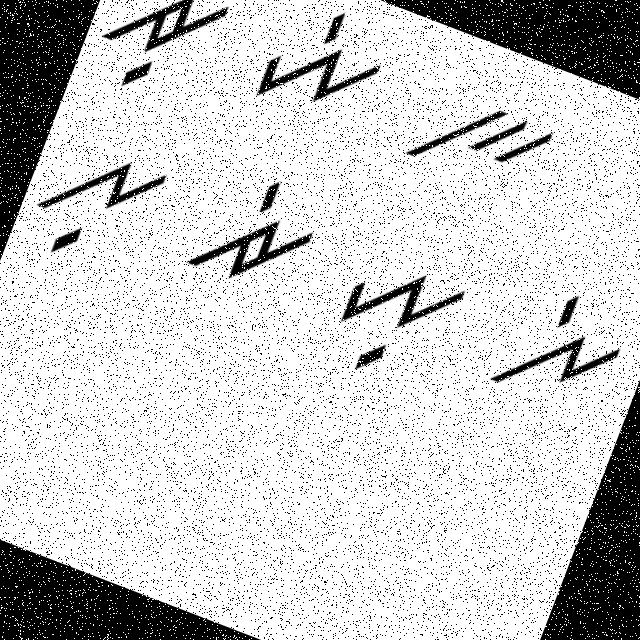le: (482, 269, 639, 434)
lu: (16, 119, 179, 287)
re: (182, 158, 332, 313)
ru: (84, 0, 240, 119)
ye: (246, 0, 403, 142)
yu: (310, 234, 480, 411)
